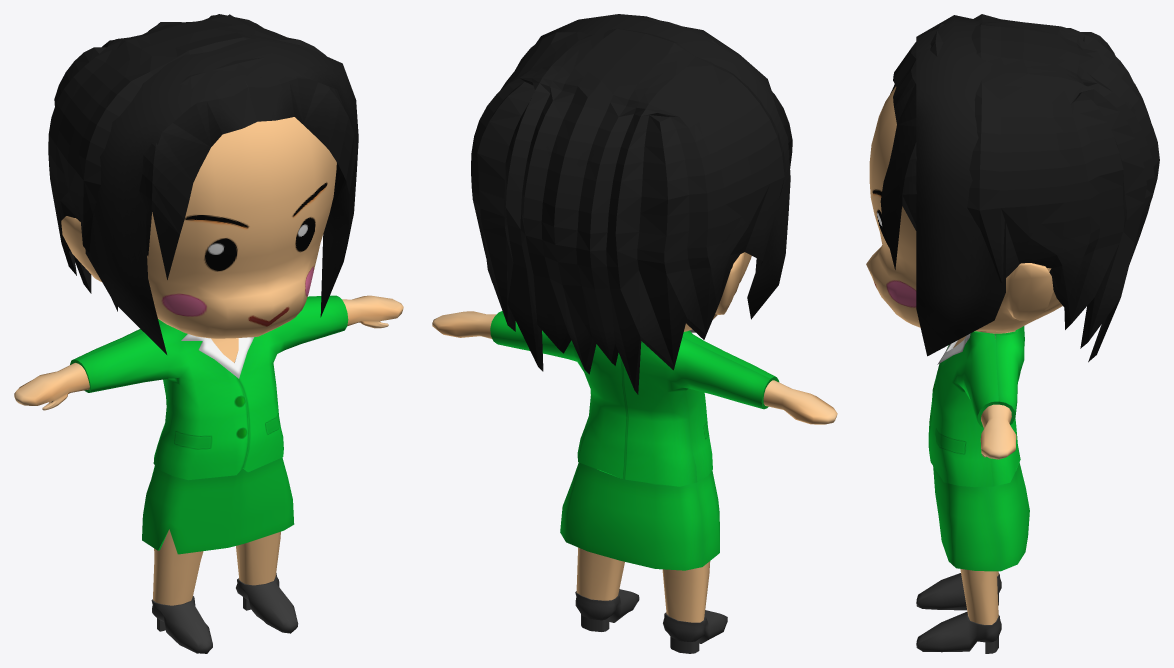
Rendered from girl.fbx.
3 renders of one model, left to right at view 1: azimuth 30°, elevation 25°; view 2: azimuth 150°, elevation 25°; view 3: azimuth 270°, elevation 25°, orthographic. The views are drawn at different scales.
Visible parts, largest first — view 1: body, pasted__polySurface8, pasted__pasted__polySurface4, pPlane5; view 2: pasted__pasted__polySurface4, pasted__polySurface8, body, pPlane5; view 3: pasted__pasted__polySurface4, pPlane5, pasted__polySurface8, body.
Boxes of the visible parts, left/top/right/bottom form: body: left=14, top=117, right=403, bottom=653; pasted__polySurface8: left=70, top=295, right=348, bottom=554; pasted__pasted__polySurface4: left=48, top=14, right=357, bottom=311; pPlane5: left=85, top=35, right=358, bottom=354; pasted__pasted__polySurface4: left=471, top=17, right=792, bottom=394; pasted__polySurface8: left=490, top=311, right=779, bottom=570; body: left=432, top=252, right=837, bottom=653; pPlane5: left=535, top=14, right=790, bottom=319; pasted__pasted__polySurface4: left=880, top=14, right=1159, bottom=362; pPlane5: left=916, top=15, right=1005, bottom=356; pasted__polySurface8: left=928, top=326, right=1029, bottom=571; body: left=866, top=86, right=1062, bottom=653.
Bounding box in the file's own units: 24.94 × 35.79 × 16.16.
